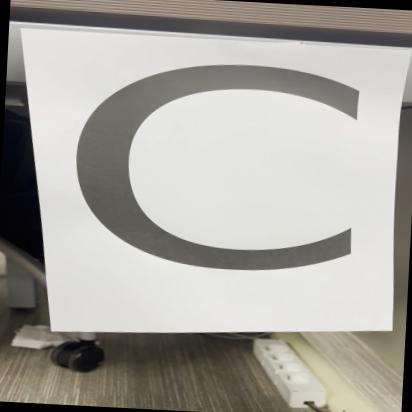seat: (0, 17, 409, 356)
